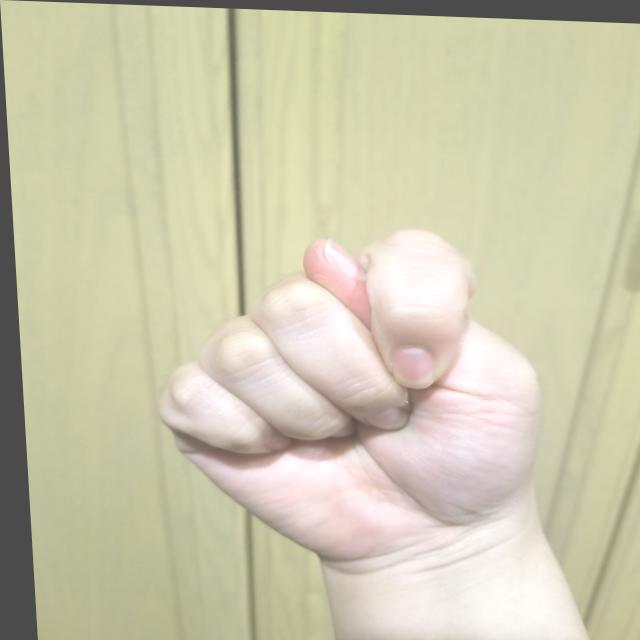T: (130, 212, 558, 577)
